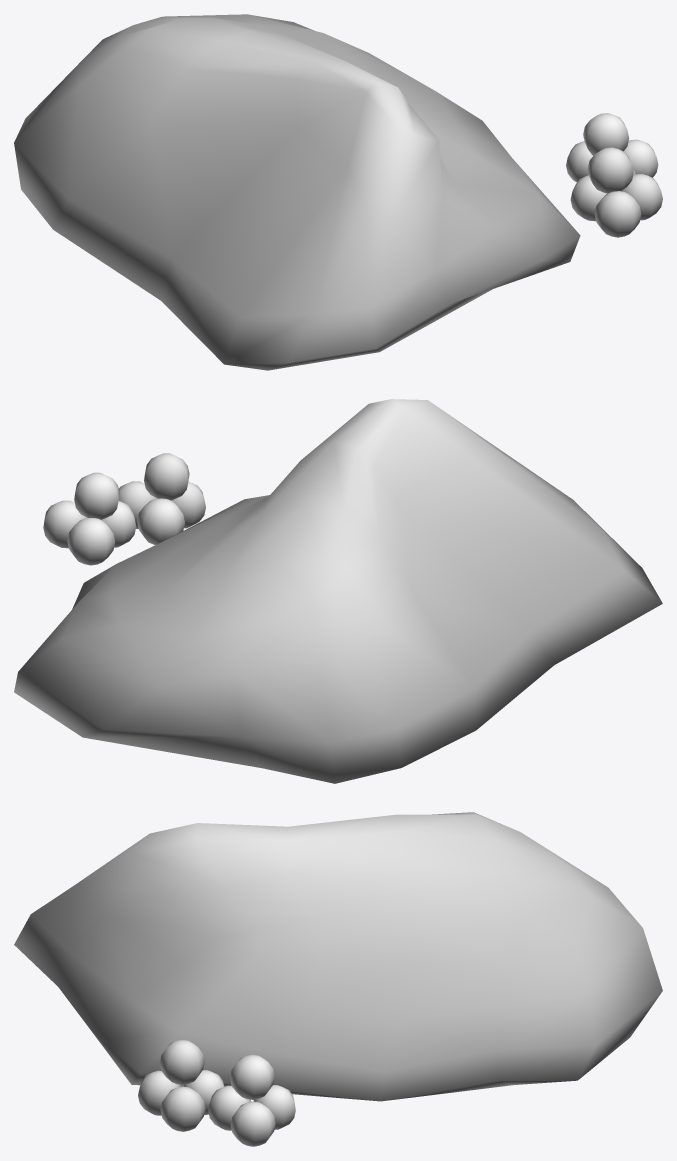
Rendered from Snowbank_01.fbx.
3 views of the same model, one above another, from view 1: azimuth 30°, elevation 25°; view 2: azimuth 150°, elevation 25°; view 3: azimuth 270°, elevation 25° (orthographic). The views are drawn at different scales.
Visible parts, largest first — view 1: Snowbank_01; view 2: Snowbank_01; view 3: Snowbank_01.
Boxes of the visible parts, x1=… form: Snowbank_01: x1=14, y1=14, x2=662, y2=370; Snowbank_01: x1=14, y1=399, x2=662, y2=783; Snowbank_01: x1=14, y1=812, x2=662, y2=1146.
Size of the model in its own units: 423 by 151 by 476.
